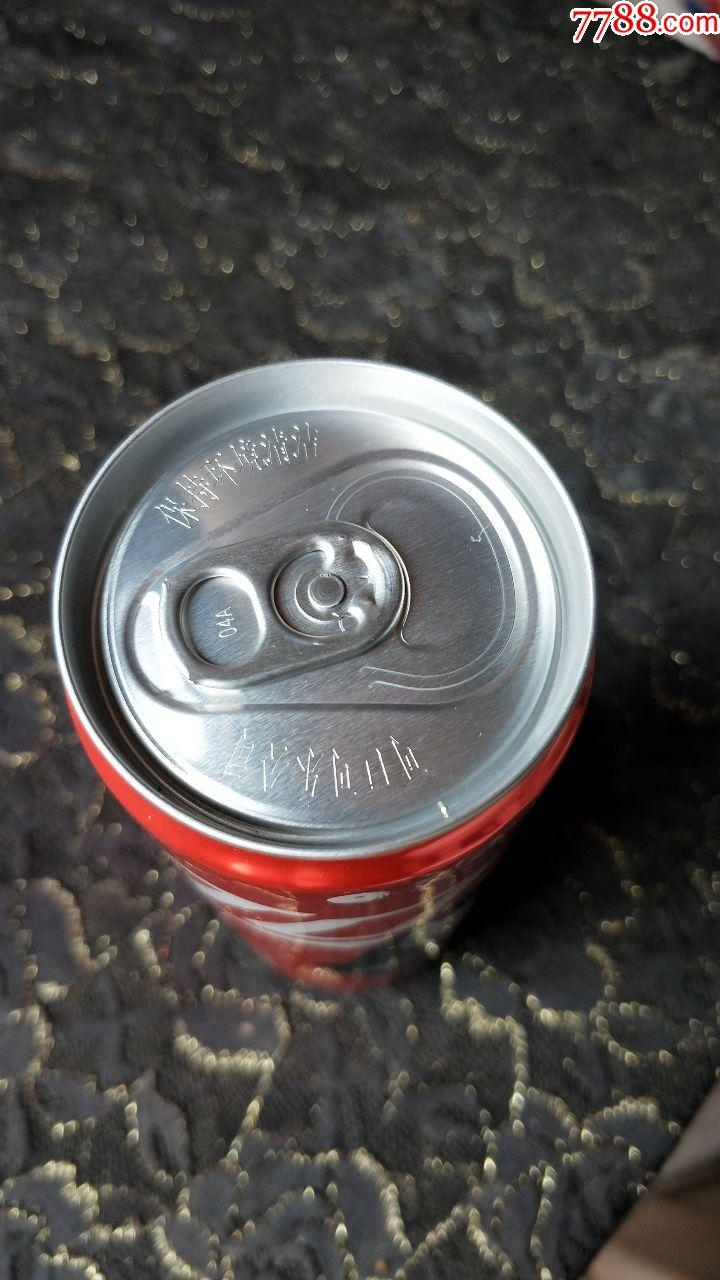metal: (53, 359, 594, 990)
